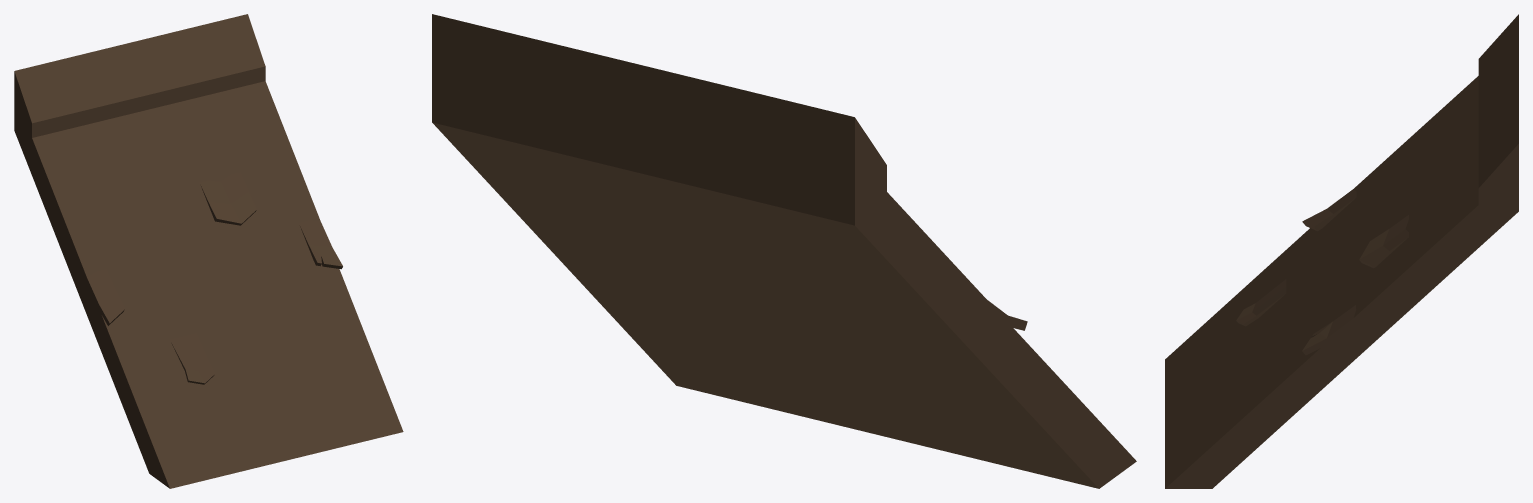
File: buildings-roof-wood-top-3x3m.glb
3 views of the same model, side by side, from view 1: azimuth 30°, elevation 25°; view 2: azimuth 150°, elevation 25°; view 3: azimuth 270°, elevation 25° (orthographic). The views are drawn at different scales.
Visible parts, largest first — view 1: roof-wood-top-3x3m; view 2: roof-wood-top-3x3m; view 3: roof-wood-top-3x3m.
Part boxes in pixels (x1=…): roof-wood-top-3x3m: x1=14, y1=14, x2=403, y2=488; roof-wood-top-3x3m: x1=432, y1=14, x2=1136, y2=488; roof-wood-top-3x3m: x1=1165, y1=14, x2=1518, y2=488.
Size of the model in its own units: 3 by 3.73 by 3.47.
